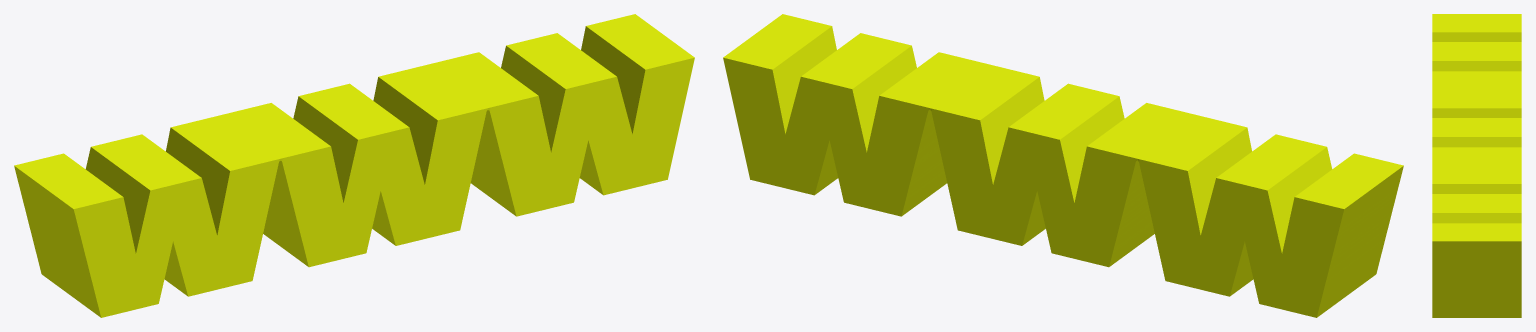
The model's file is asset.glb.
3 renders of one model, left to right at view 1: azimuth 30°, elevation 25°; view 2: azimuth 150°, elevation 25°; view 3: azimuth 270°, elevation 25°, orthographic. The views are drawn at different scales.
Visible parts, largest first — view 1: Text; view 2: Text; view 3: Text.
Part boxes in pixels (x1,y1,x2,y2): Text: (14,14,694,317); Text: (723,14,1403,317); Text: (1432,14,1521,317).
Size of the model in its own units: 7.62 by 1.35 by 1.27.
